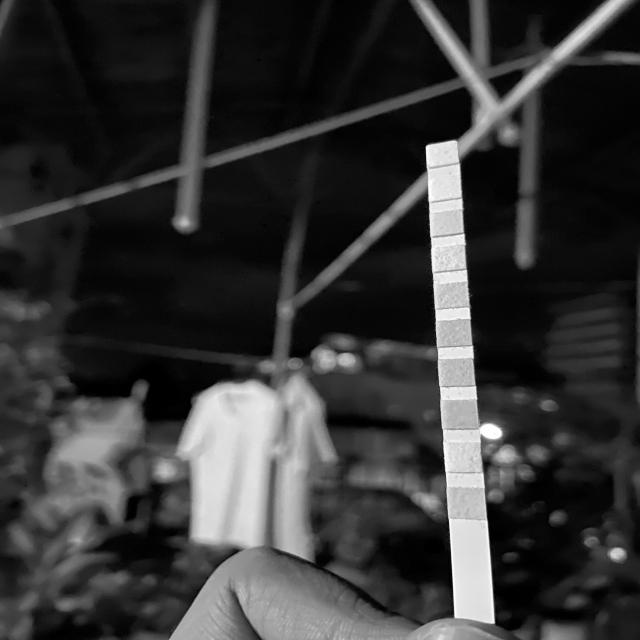Bilirubin: (446, 443, 479, 472)
Blood: (438, 321, 470, 345)
Glucose: (449, 489, 485, 517)
Ketone: (442, 400, 477, 428)
Leukocytes: (429, 145, 455, 164)
Nitrite: (431, 180, 458, 198)
Protein: (433, 248, 465, 268)
SpGravity: (440, 360, 473, 384)
Urobilinogen: (432, 214, 462, 234)
background: (0, 0, 640, 640)
pH: (436, 284, 467, 306)
strip: (425, 141, 495, 616)
